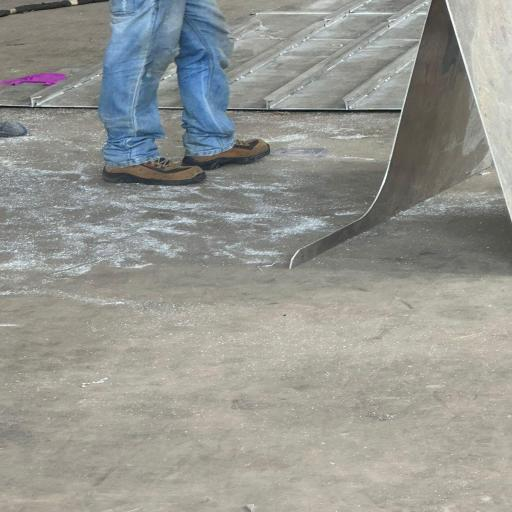safety_shoe: (97, 147, 211, 190), (187, 134, 274, 171)
